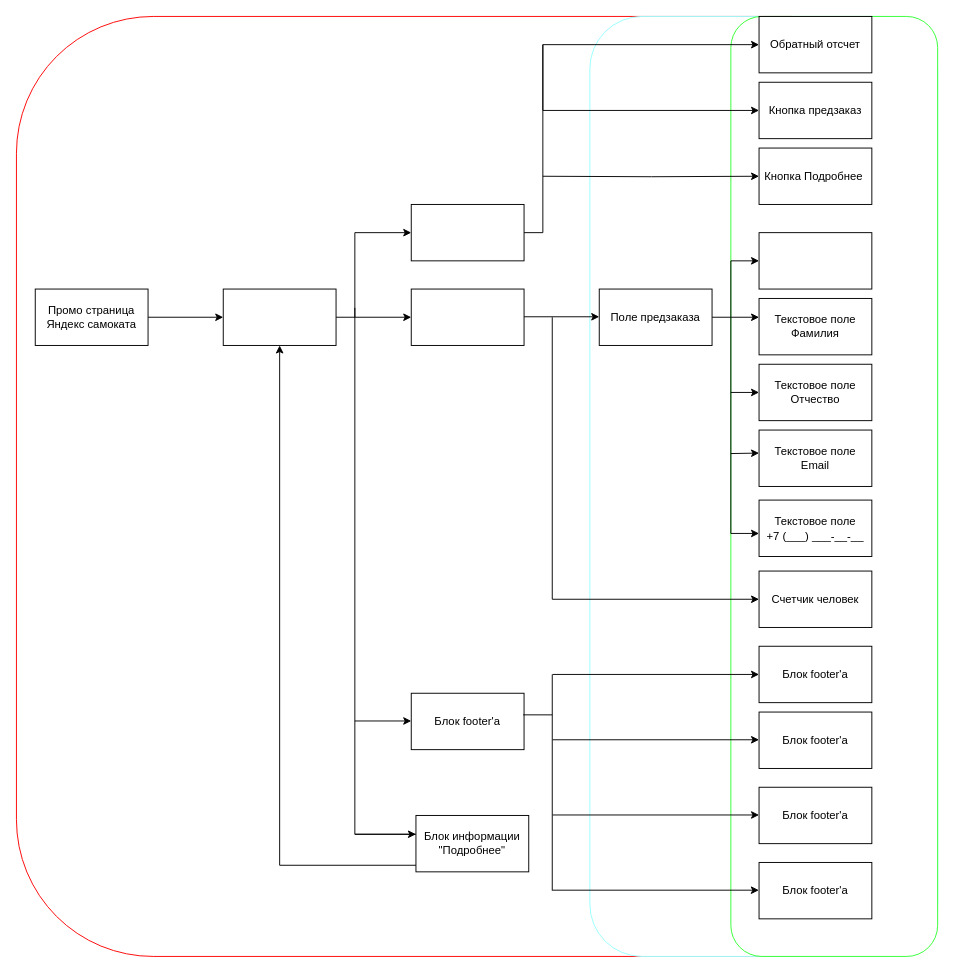
The diagram is 954 pixels wide and 973 high, and some of its shapes have lost their labels. Each missing label, with the centre of its shape:
"Блок предзаказа" goes at (x=467, y=316).
"Верхний блок" goes at (x=467, y=232).
"Текст, шрифт страницы (проверка)" goes at (x=279, y=316).
"Текстовое поле Имя" goes at (x=815, y=260).
